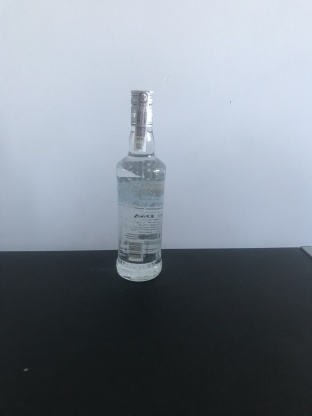nakretka: (128, 84, 155, 130)
